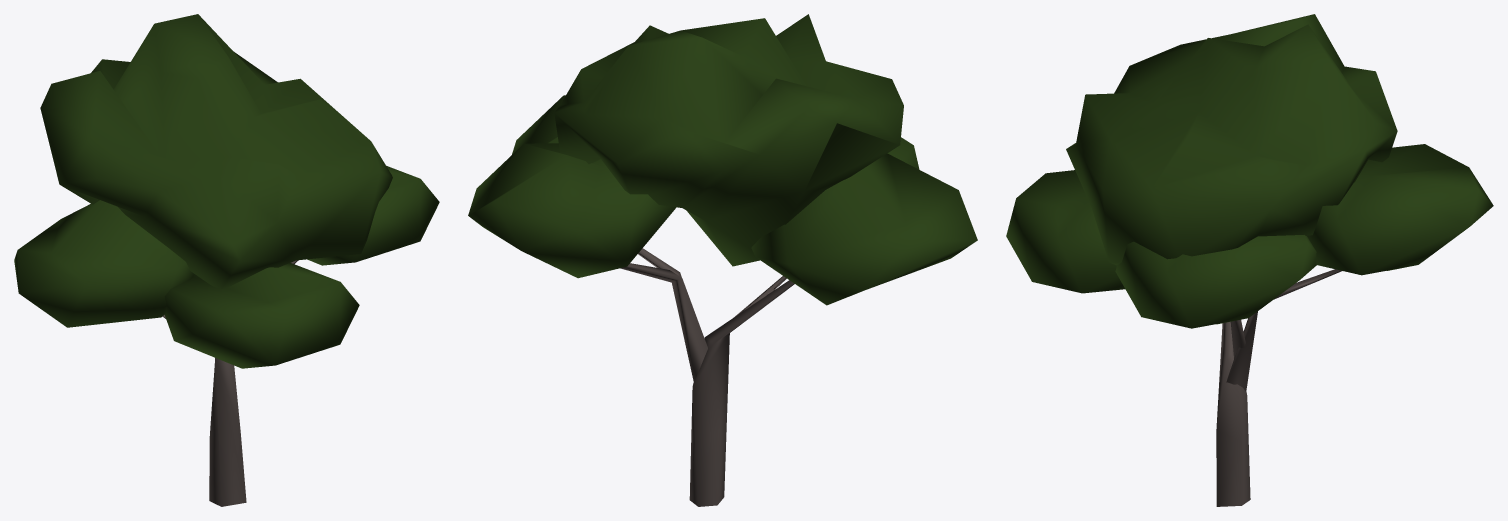
Rendered from M_Tree_Marula.fbx.
3 renders of one model, left to right at view 1: azimuth 30°, elevation 25°; view 2: azimuth 150°, elevation 25°; view 3: azimuth 270°, elevation 25°, orthographic. The views are drawn at different scales.
Visible parts, largest first — view 1: M_Marula; view 2: M_Marula; view 3: M_Marula.
Boxes of the visible parts, bbox=[...] form: M_Marula: bbox=[14, 14, 439, 506]; M_Marula: bbox=[468, 14, 977, 506]; M_Marula: bbox=[1006, 14, 1493, 506].
Bounding box in the file's own units: 552 × 573 × 551.
